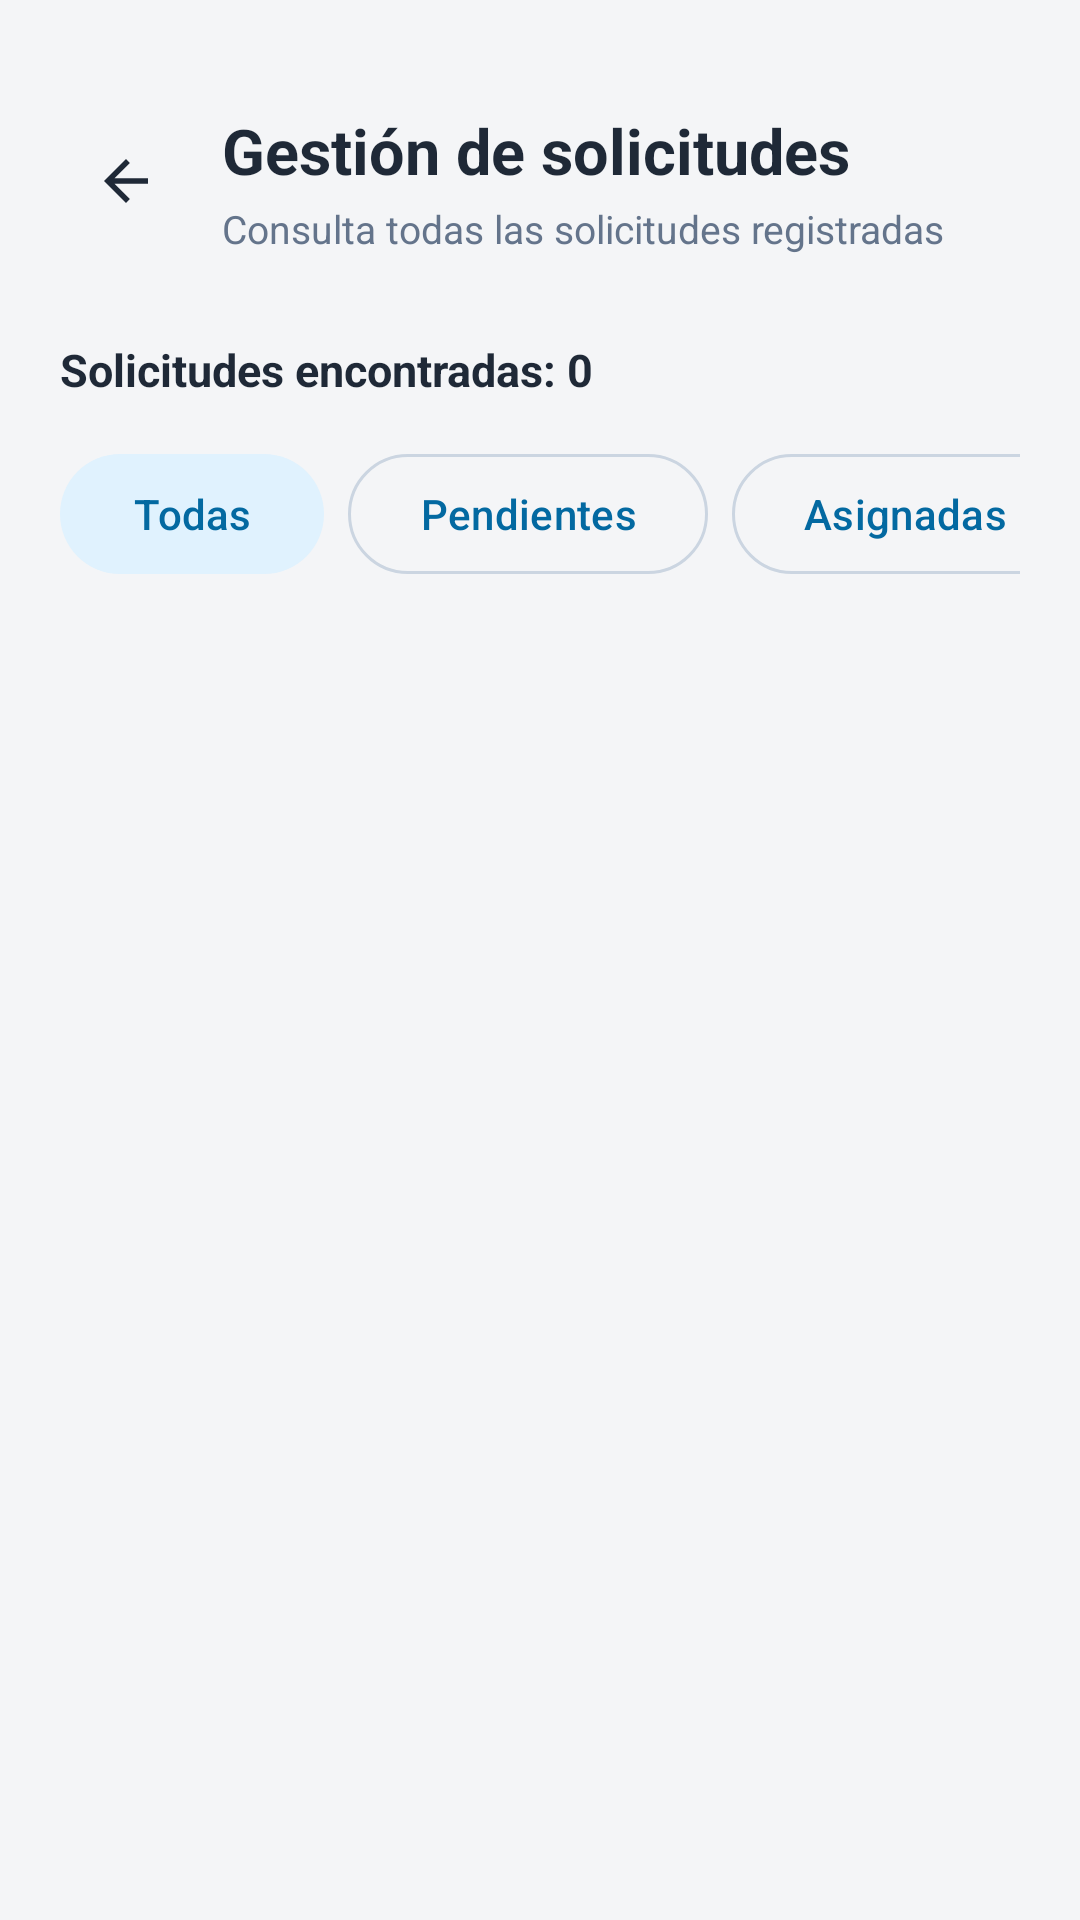

Named icons in this screenshot (1080 × 1920) and their bounding boxes, (x1, y1, x2, y2):
Regresar: (104, 159, 148, 203)
